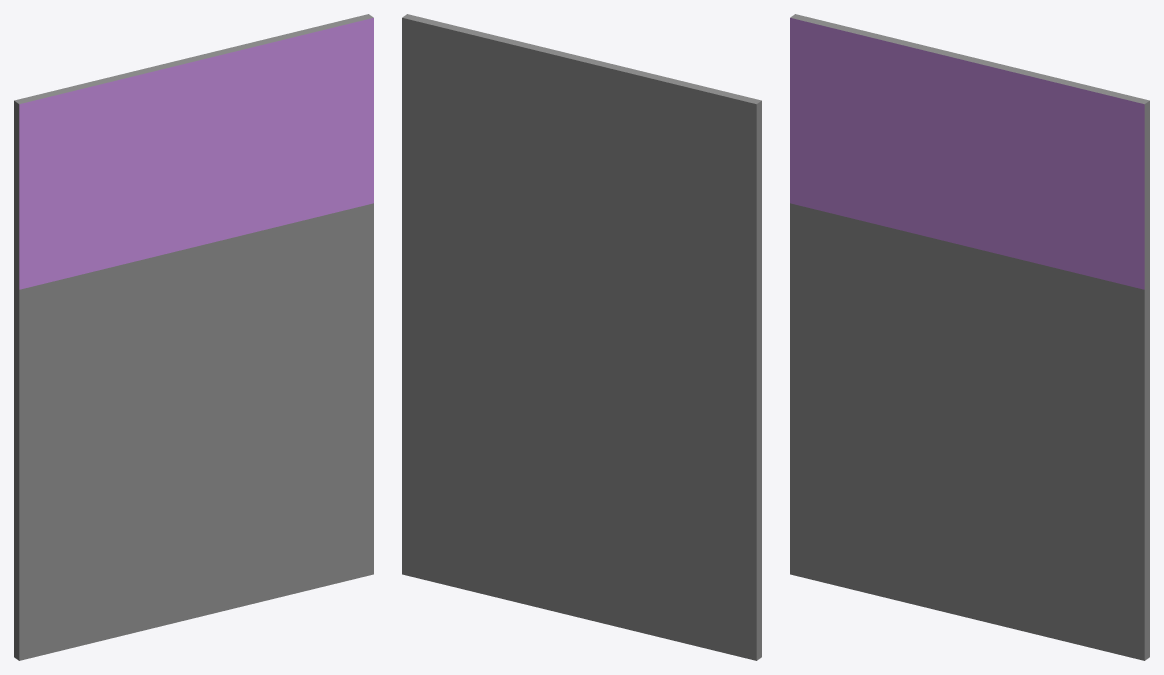
Rendered from Wall_01.fbx.
3 views of the same model, side by side, from view 1: azimuth 30°, elevation 25°; view 2: azimuth 150°, elevation 25°; view 3: azimuth 330°, elevation 25° (orthographic).
Visible parts, largest first — view 1: SM_Wall_01; view 2: SM_Wall_01; view 3: SM_Wall_01.
Part boxes in pixels (bbox=[...]): SM_Wall_01: bbox=[14, 14, 373, 660]; SM_Wall_01: bbox=[402, 14, 761, 660]; SM_Wall_01: bbox=[790, 14, 1149, 660].
Bounding box in the file's own units: 200 × 300 × 5.
